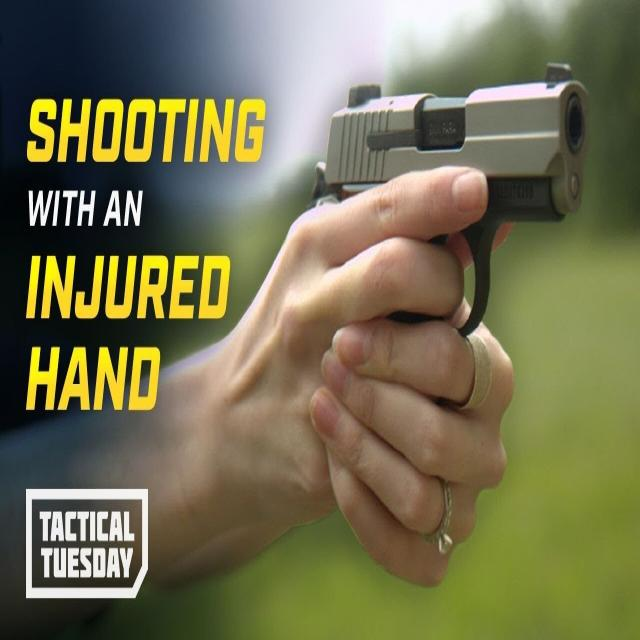HandGun: (308, 62, 589, 339)
